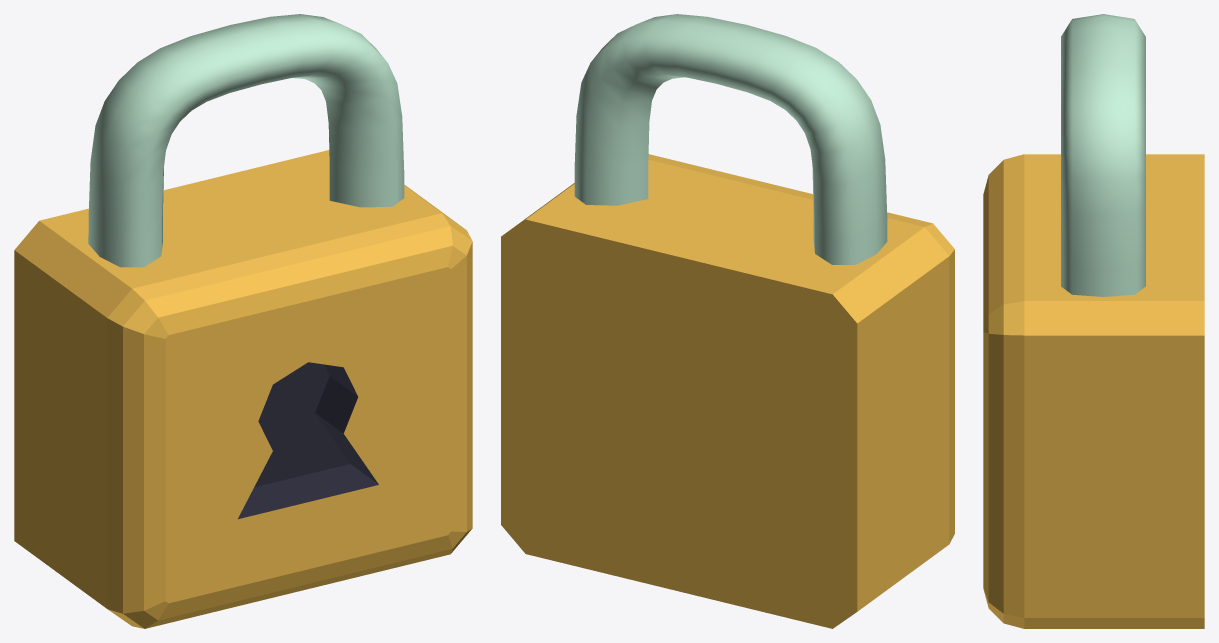
Rendered from lockpad2.fbx.
3 renders of one model, left to right at view 1: azimuth 30°, elevation 25°; view 2: azimuth 150°, elevation 25°; view 3: azimuth 270°, elevation 25°, orthographic. The views are drawn at different scales.
Visible parts, largest first — view 1: Cube.025, Cube.004; view 2: Cube.025, Cube.004; view 3: Cube.025, Cube.004.
Part boxes in pixels (x1,y1,x2,y2): Cube.025: (14,150,472,628); Cube.004: (88,14,404,267); Cube.025: (501,154,954,628); Cube.004: (574,14,887,264); Cube.025: (983,154,1204,628); Cube.004: (1061,14,1145,296).
Bounding box in the file's own units: 202 × 282 × 111.
